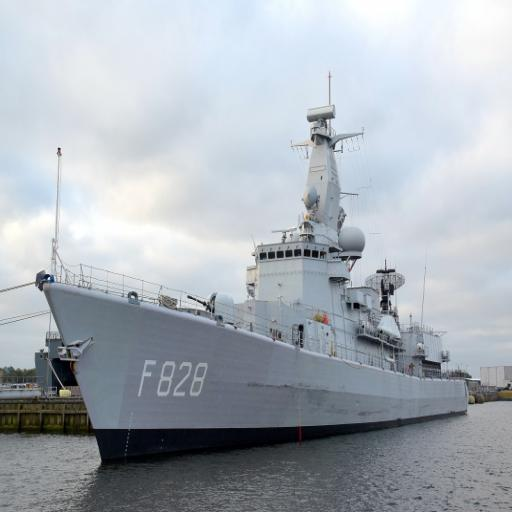Fragata: (39, 65, 476, 475)
